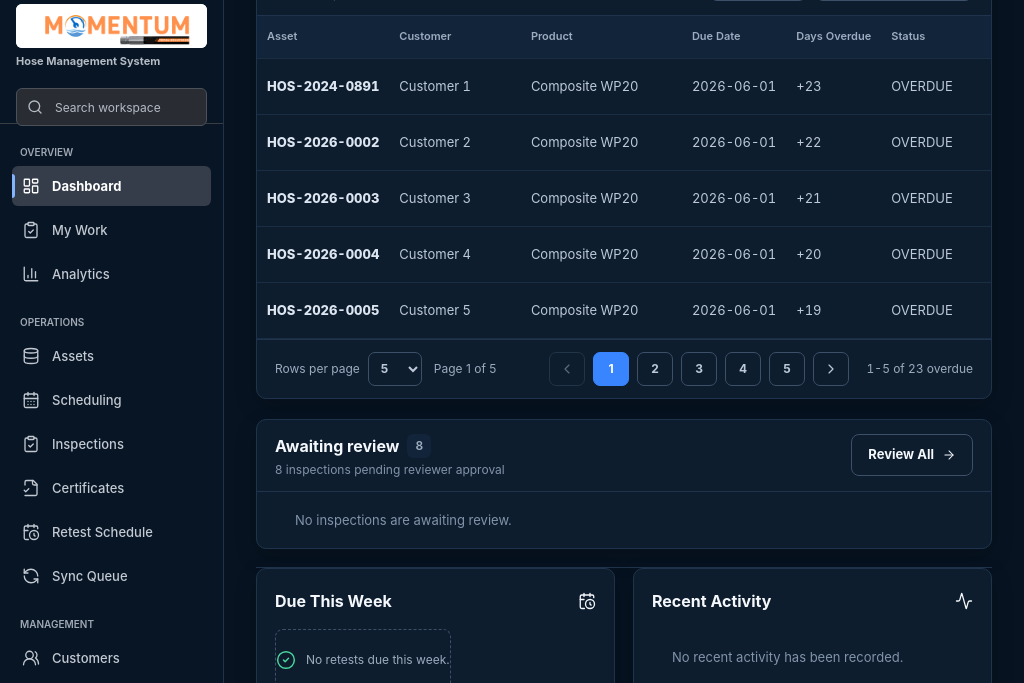
Test: App › paginates overdue retests and resets to the first page when the page size changes
(page scrolled)
Expected: the button "HOS-2024-0891" is shown, [267,70,379,102]
Expected: the text "Page 1 of 5" is shown, [434,361,496,376]
Click the button named "Next page" at (831,368), box [813,352,849,386]
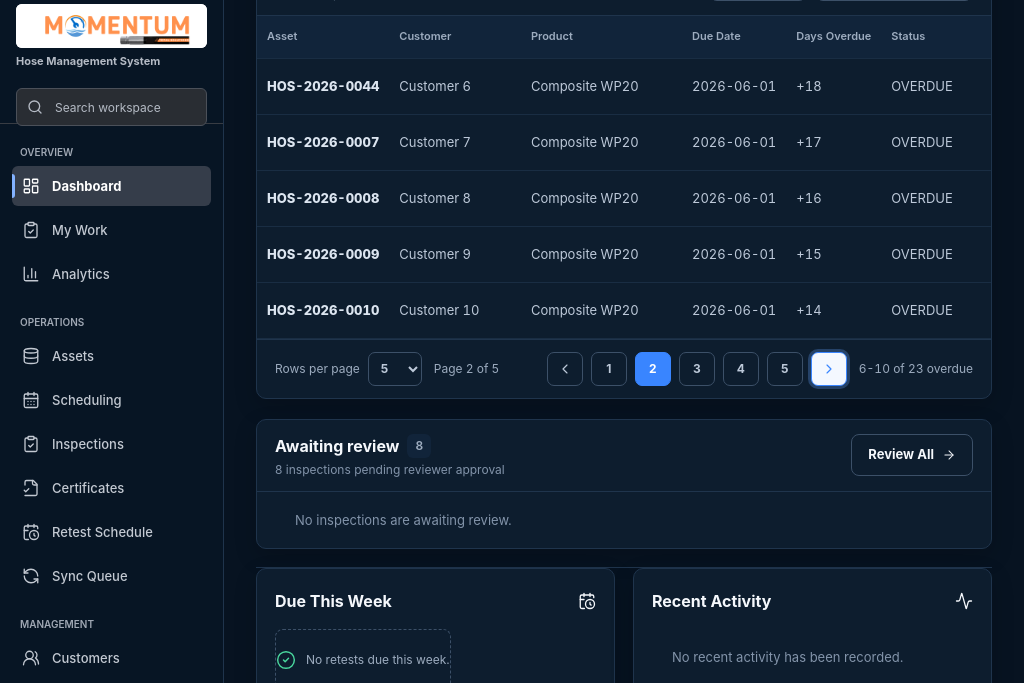
Result: the button "HOS-2026-0044" is shown at [267,70,379,102]
Result: the button "HOS-2024-0891" is gone
Result: the text "Page 2 of 5" is shown at [434,361,499,376]
Click the button named "Previous page" at (565,368), box [547,352,583,386]
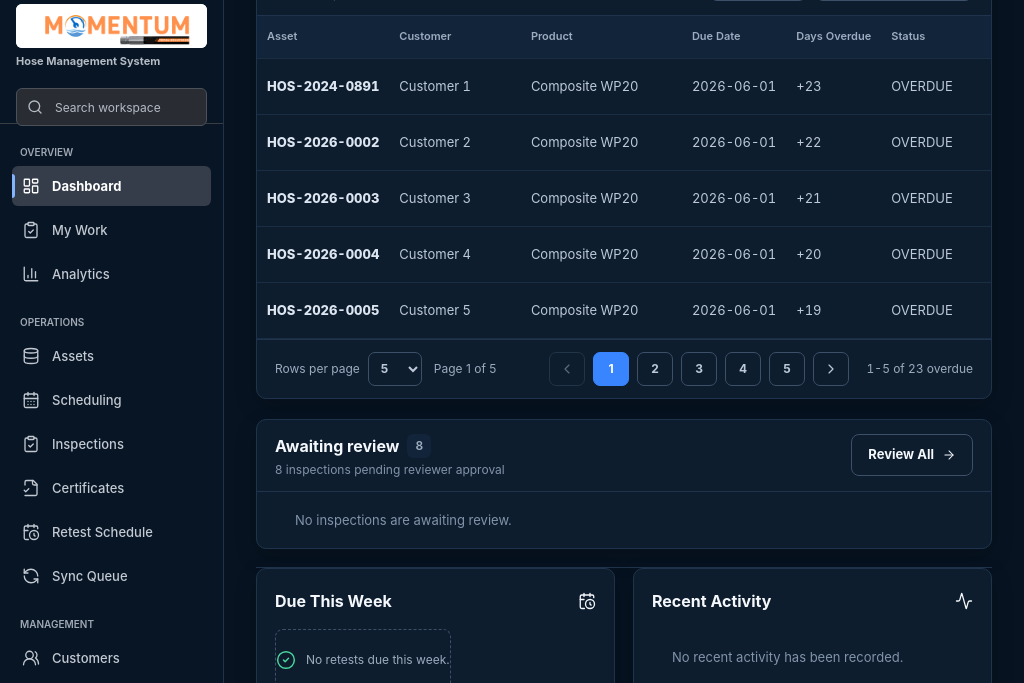
Result: the text "Page 1 of 5" is shown at [434,361,496,376]
Click the button named "Page 2" at (655,368), box [637,352,673,386]
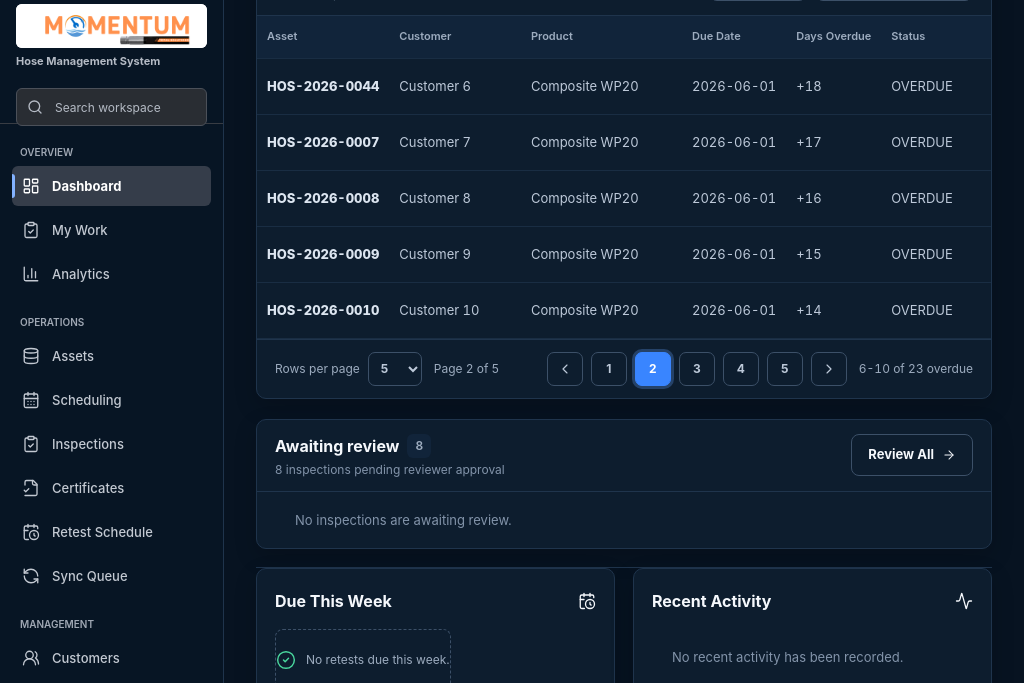
Select "10" in the dropdown labelled "Rows per page" at (395,368), box [368,352,422,386]
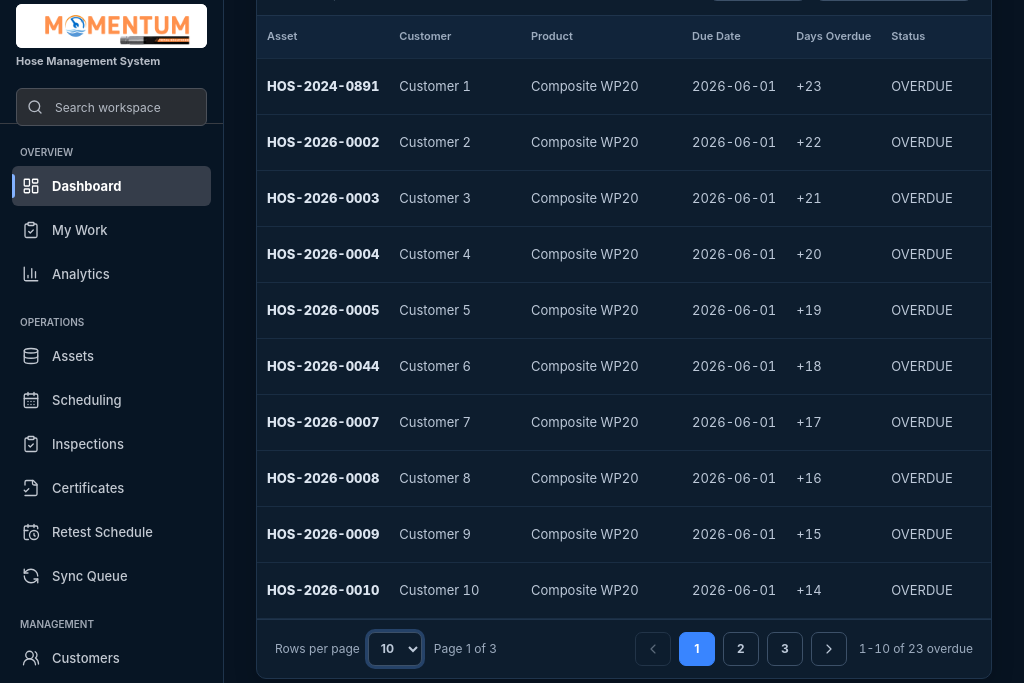
Result: the button "HOS-2024-0891" is shown at [267,70,379,102]
Result: the text "Page 1 of 3" is shown at [434,641,497,656]
Result: the text "1-10 of 23 overdue" is shown at [859,641,973,656]
